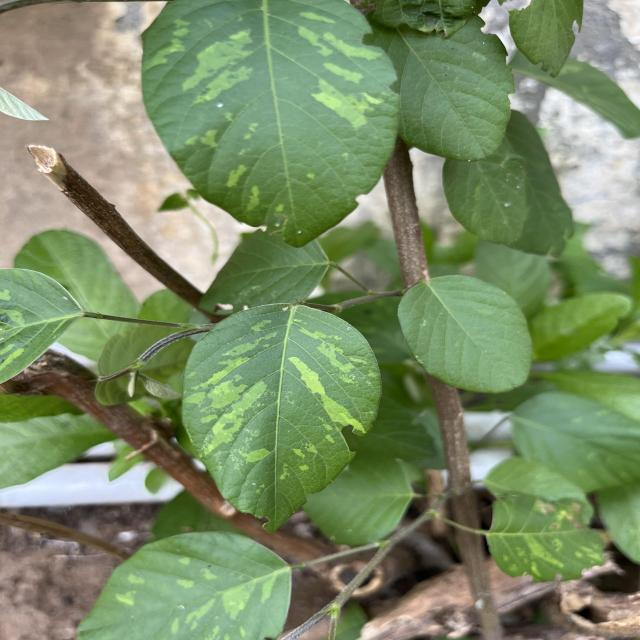Desmodium gangeticum: (178, 300, 384, 536)
